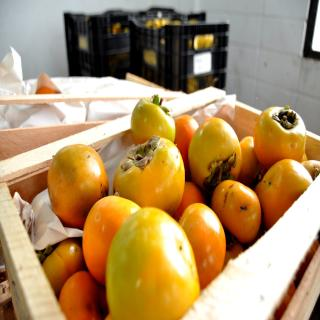tomato: (104, 204, 202, 320)
